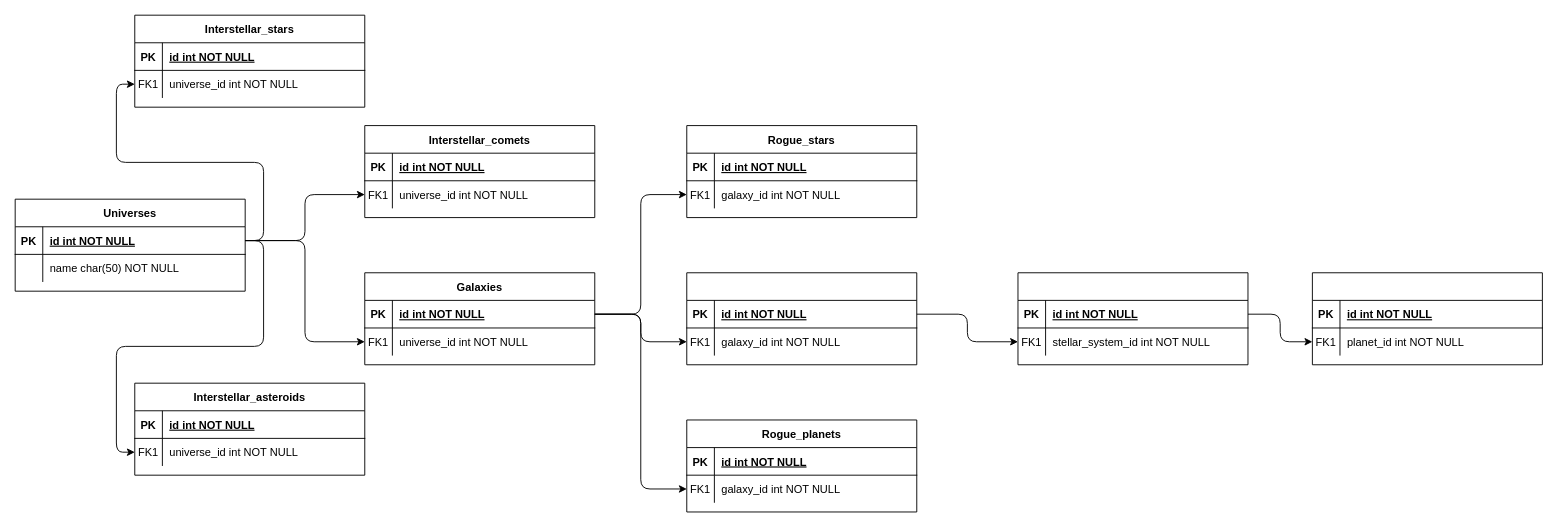
Some shapes in this 1558 by 527 pixel diagram are drawn without their labels. The box of each missing label's shape, as (x1, y1, x2, y2) in pixels:
Moons: (1311, 272, 1542, 365)
Planets: (1017, 272, 1248, 365)
Stellar_systems: (686, 272, 917, 365)
